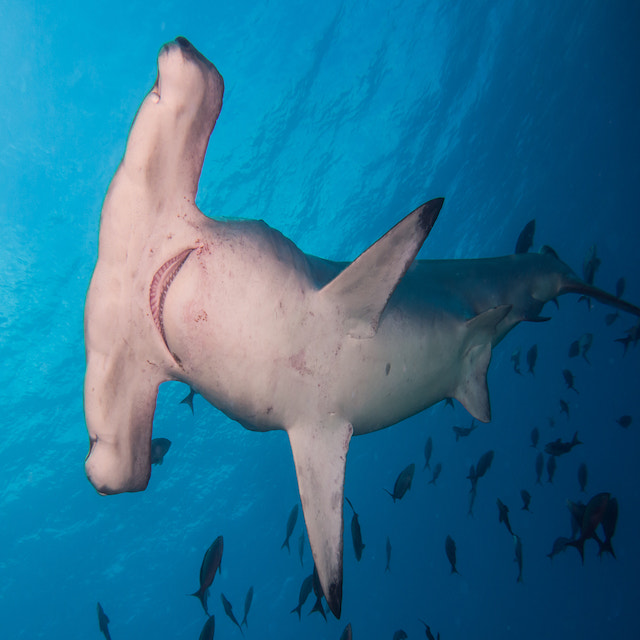hammerhead: (42, 55, 445, 568)
